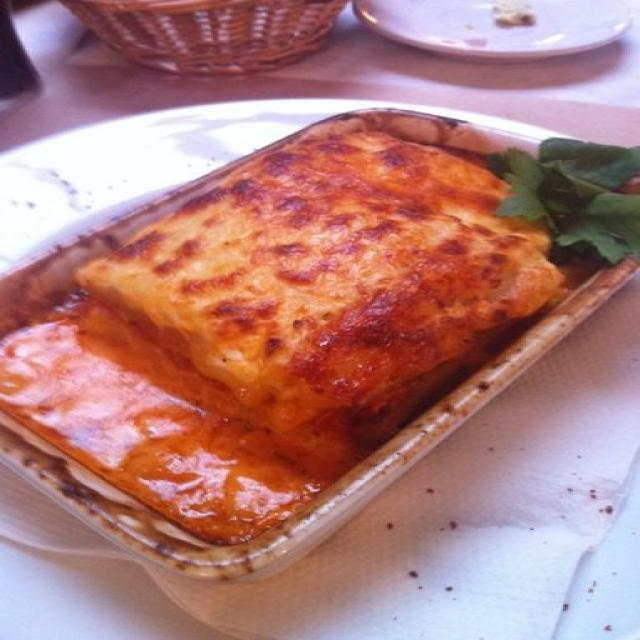Lasagna: (55, 115, 595, 466)
